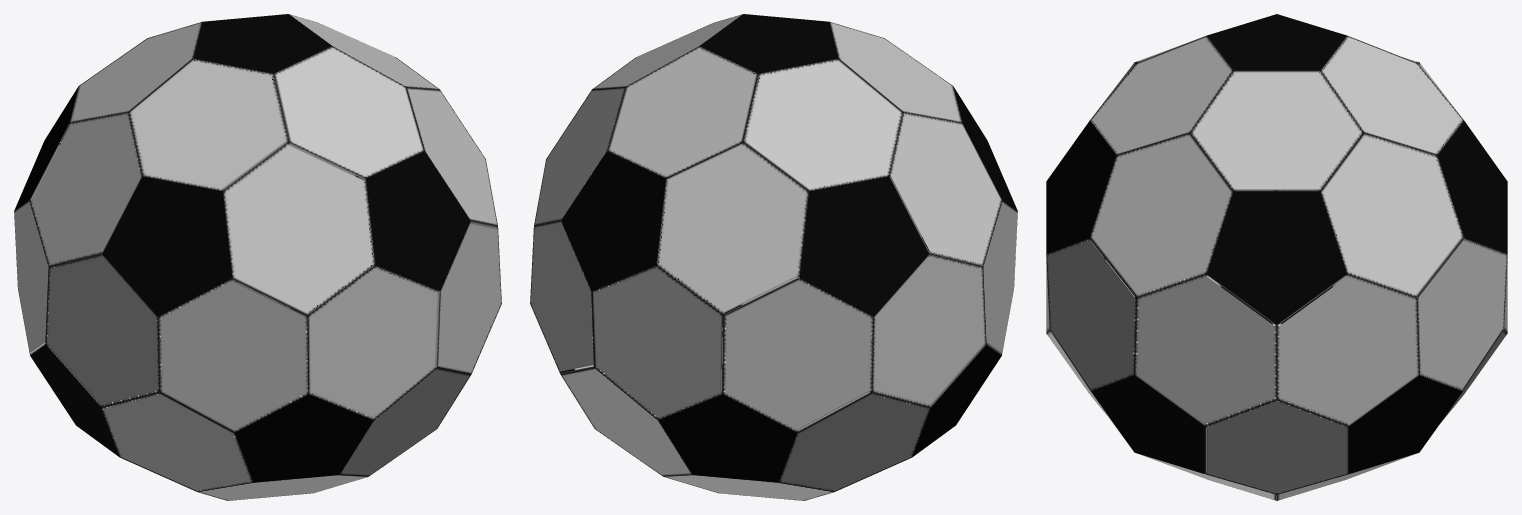
File: SoccerBall.fbx
The picture shows the model from 3 angles, left to right: view 1: azimuth 30°, elevation 25°; view 2: azimuth 150°, elevation 25°; view 3: azimuth 270°, elevation 25°; orthographic projection.
Parts seen in each view (by area): view 1: Icosphere; view 2: Icosphere; view 3: Icosphere.
Part boxes in pixels (left/top/right/bottom): Icosphere: left=14, top=14, right=501, bottom=500; Icosphere: left=530, top=14, right=1017, bottom=500; Icosphere: left=1046, top=14, right=1507, bottom=500.
Bounding box in the file's own units: 2.86 × 2.76 × 2.72.
